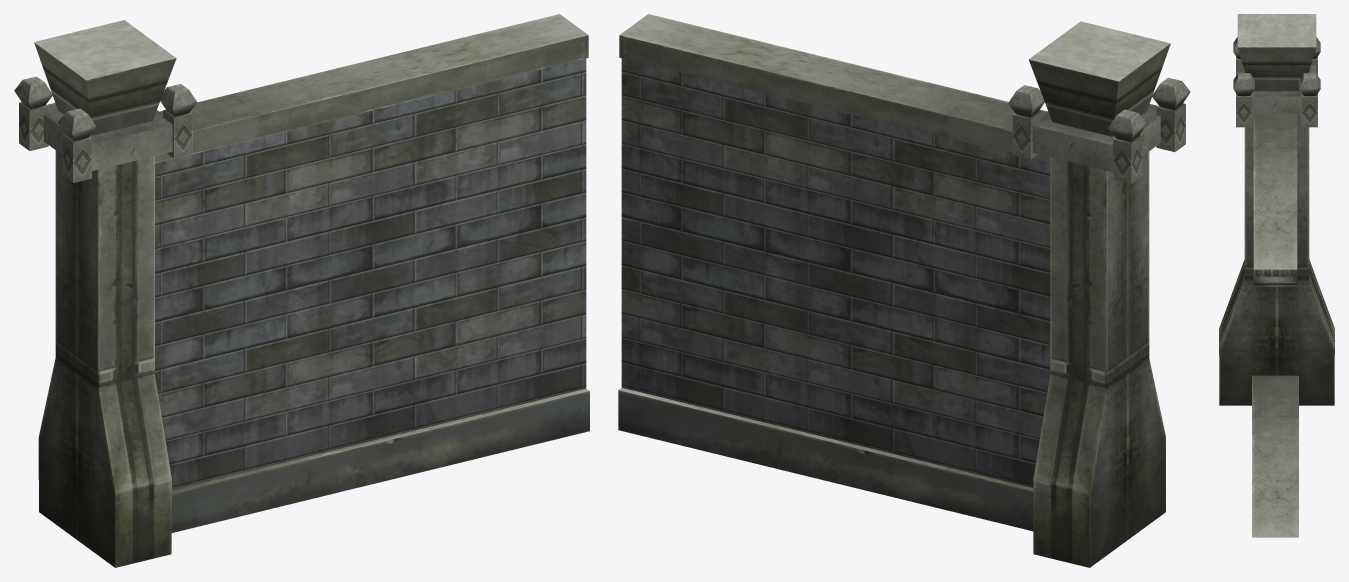
Rendered from SC_guowangchengbao_09.FBX.
The picture shows the model from 3 angles, left to right: view 1: azimuth 30°, elevation 25°; view 2: azimuth 150°, elevation 25°; view 3: azimuth 270°, elevation 25°; orthographic projection. The views are drawn at different scales.
Visible parts, largest first — view 1: SC_guowangchengbao_09; view 2: SC_guowangchengbao_09; view 3: SC_guowangchengbao_09.
Part boxes in pixels (x1,y1,x2,y2): SC_guowangchengbao_09: [14, 14, 589, 567]; SC_guowangchengbao_09: [618, 14, 1190, 567]; SC_guowangchengbao_09: [1219, 14, 1334, 537].
Bounding box in the file's own units: 1057 × 920 × 264.
